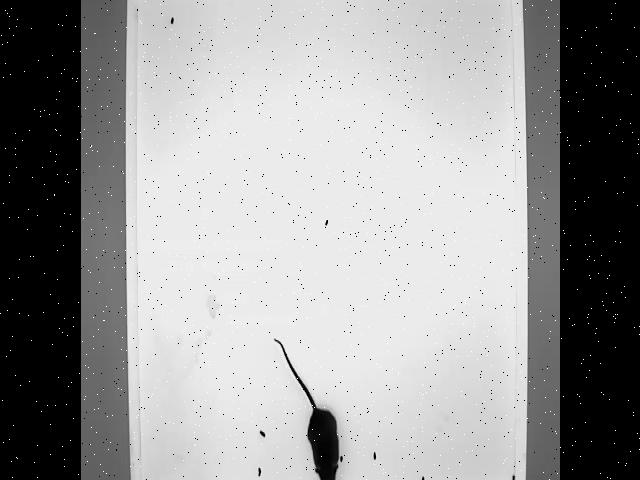Tikus: (269, 335, 345, 480)
